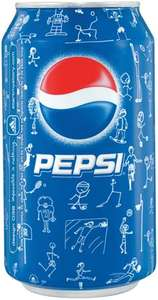pepsi: (34, 53, 117, 137), (37, 53, 117, 137), (37, 54, 117, 137), (37, 55, 117, 138)
